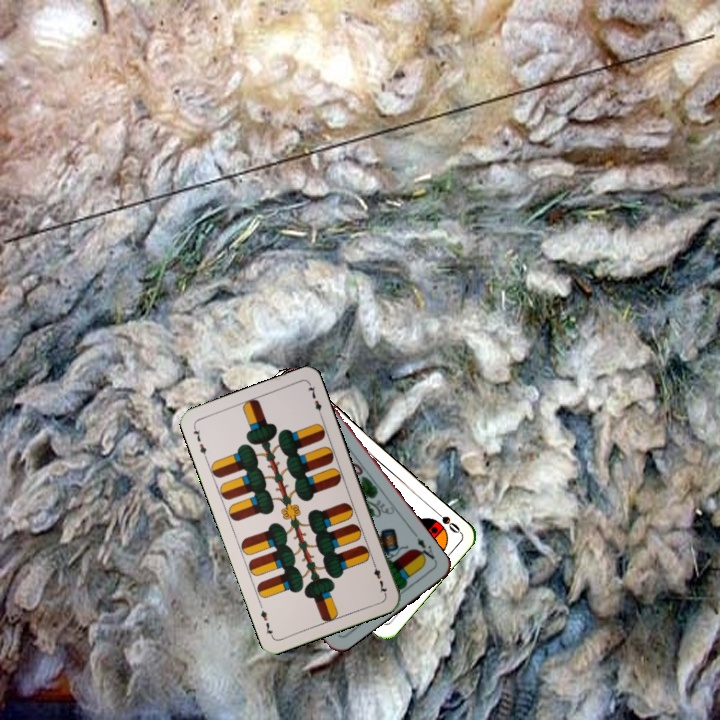E7: (369, 558, 390, 597), (189, 423, 210, 462)
EA: (410, 529, 439, 564)
SO: (429, 504, 463, 536)
